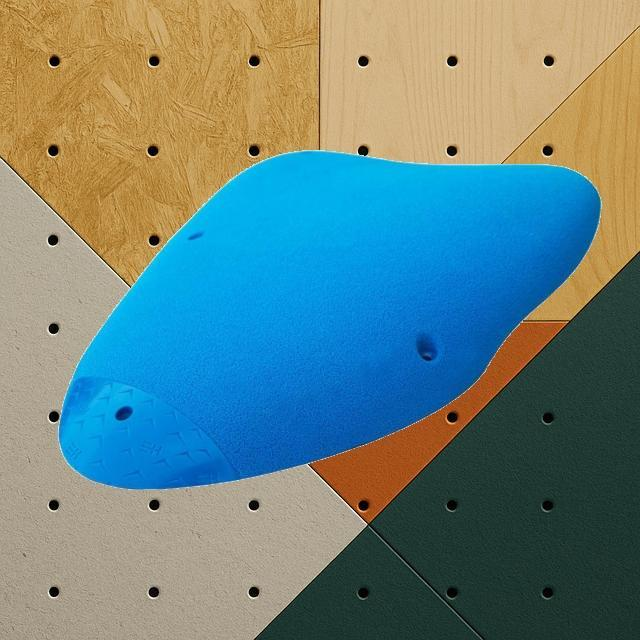Jug: (58, 148, 602, 490)
